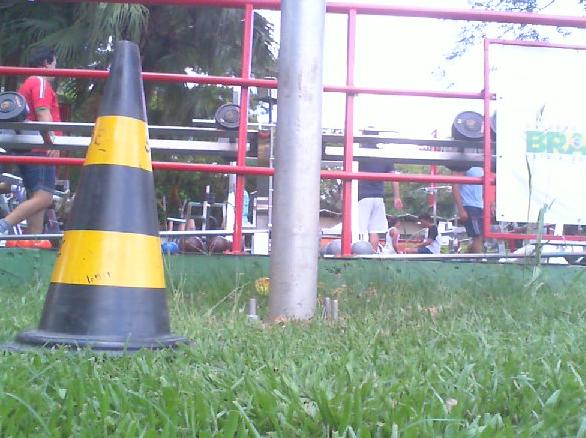0 cone: (0, 40, 195, 357)
